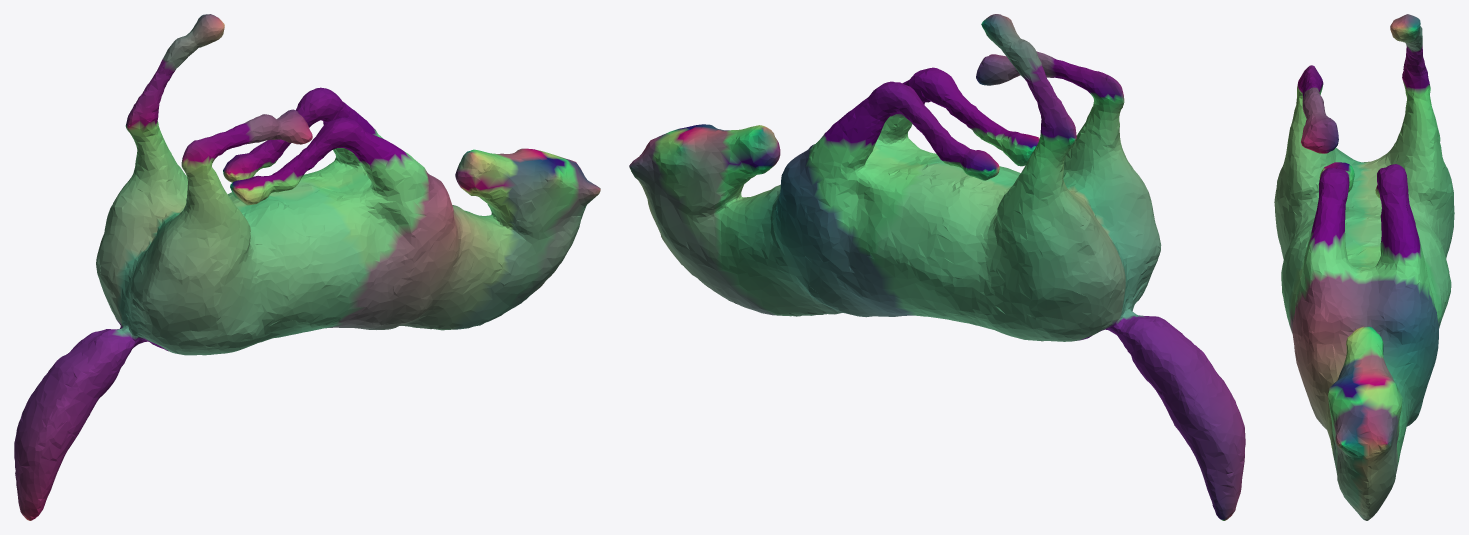
Rendered from horse-12.off.obj.
3 views of the same model, side by side, from view 1: azimuth 30°, elevation 25°; view 2: azimuth 150°, elevation 25°; view 3: azimuth 270°, elevation 25° (orthographic). The views are drawn at different scales.
Size of the model in its own units: 1.51 by 1.12 by 0.3978.
